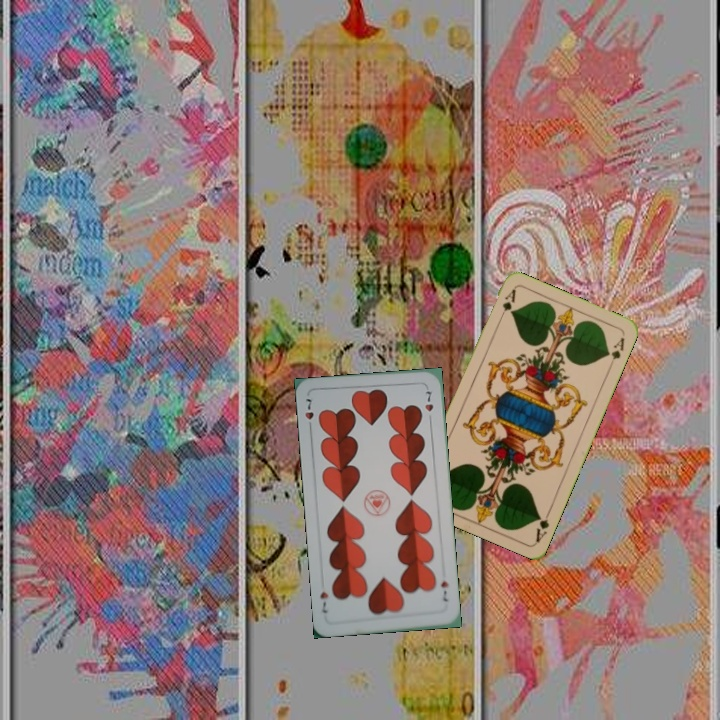GA: (495, 285, 518, 324), (532, 505, 554, 545)
H7: (301, 394, 316, 433), (437, 577, 451, 604)
